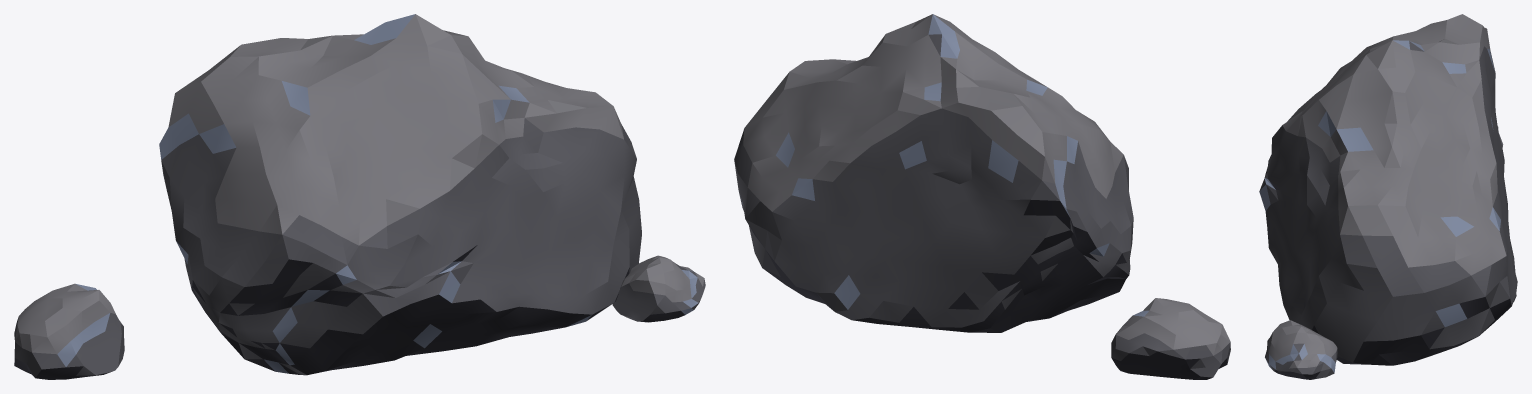
File: rock_moon_e.glb
3 views of the same model, side by side, from view 1: azimuth 30°, elevation 25°; view 2: azimuth 150°, elevation 25°; view 3: azimuth 270°, elevation 25° (orthographic). The views are drawn at different scales.
Parts seen in each view (by area): view 1: rock_moon_e; view 2: rock_moon_e; view 3: rock_moon_e.
Part boxes in pixels (x1=…): rock_moon_e: x1=14, y1=14, x2=705, y2=379; rock_moon_e: x1=734, y1=14, x2=1230, y2=379; rock_moon_e: x1=1259, y1=14, x2=1517, y2=379.
Size of the model in its own units: 2.28 by 1.08 by 1.02.
